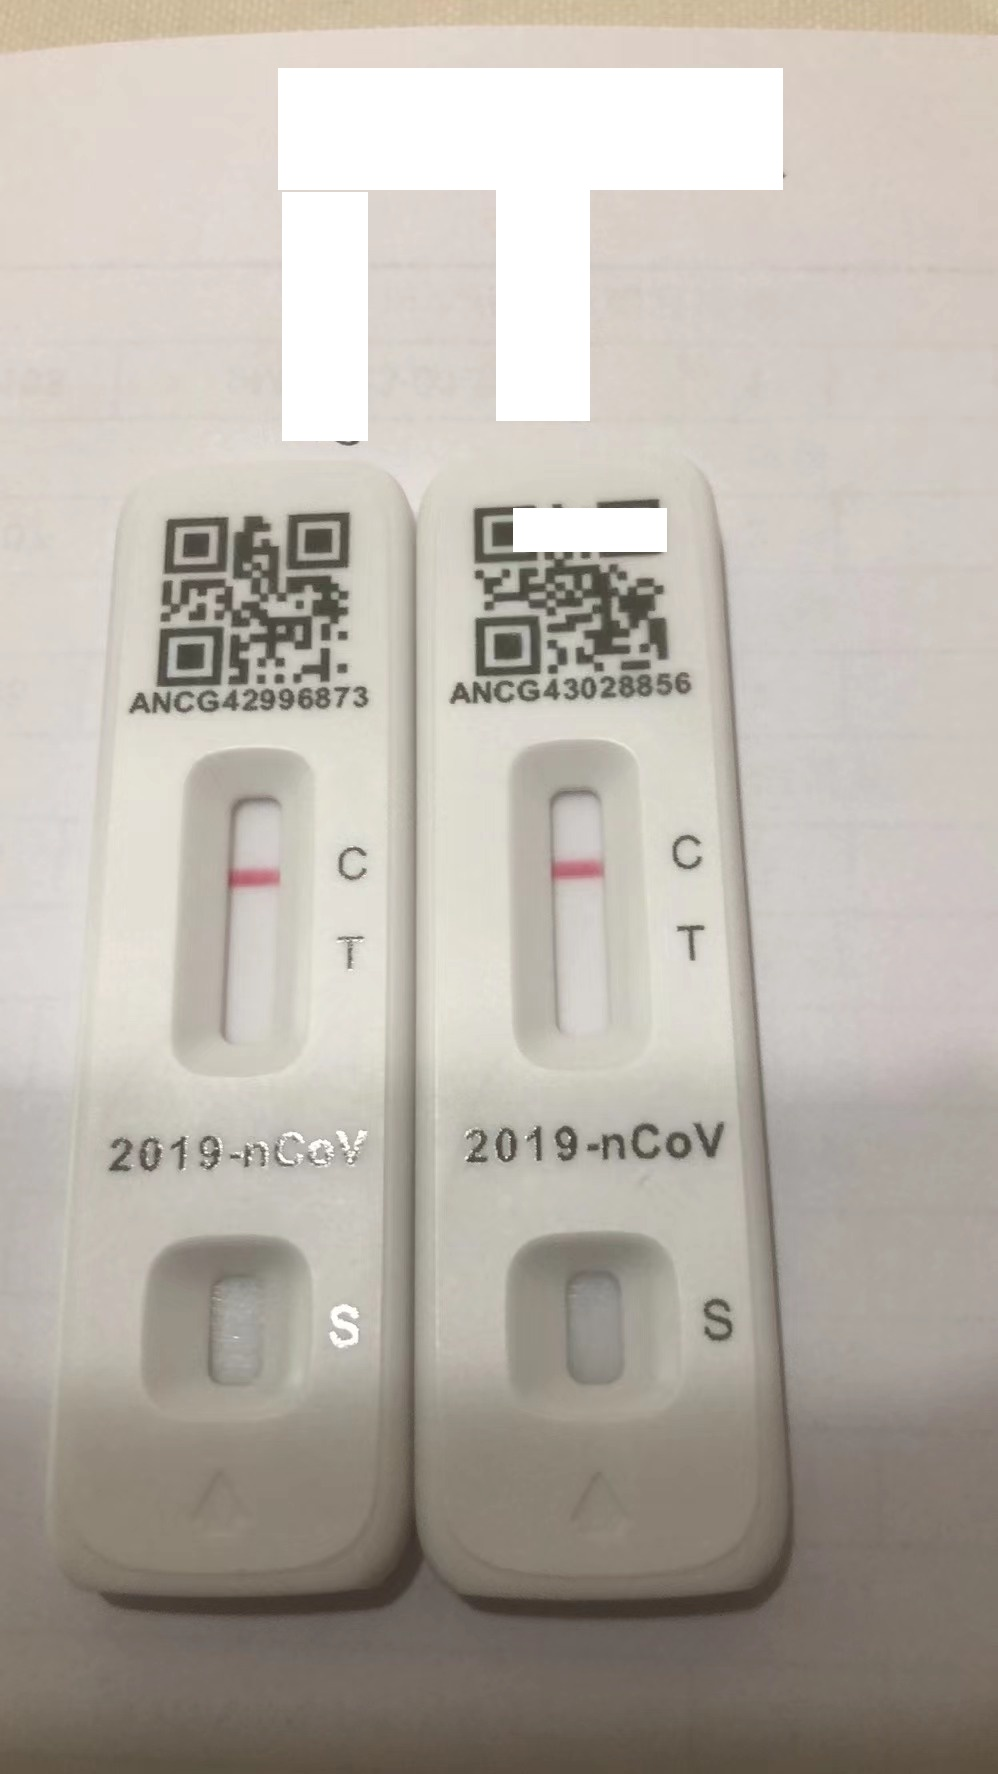negative: (507, 751, 656, 1094), (175, 751, 314, 1099)
